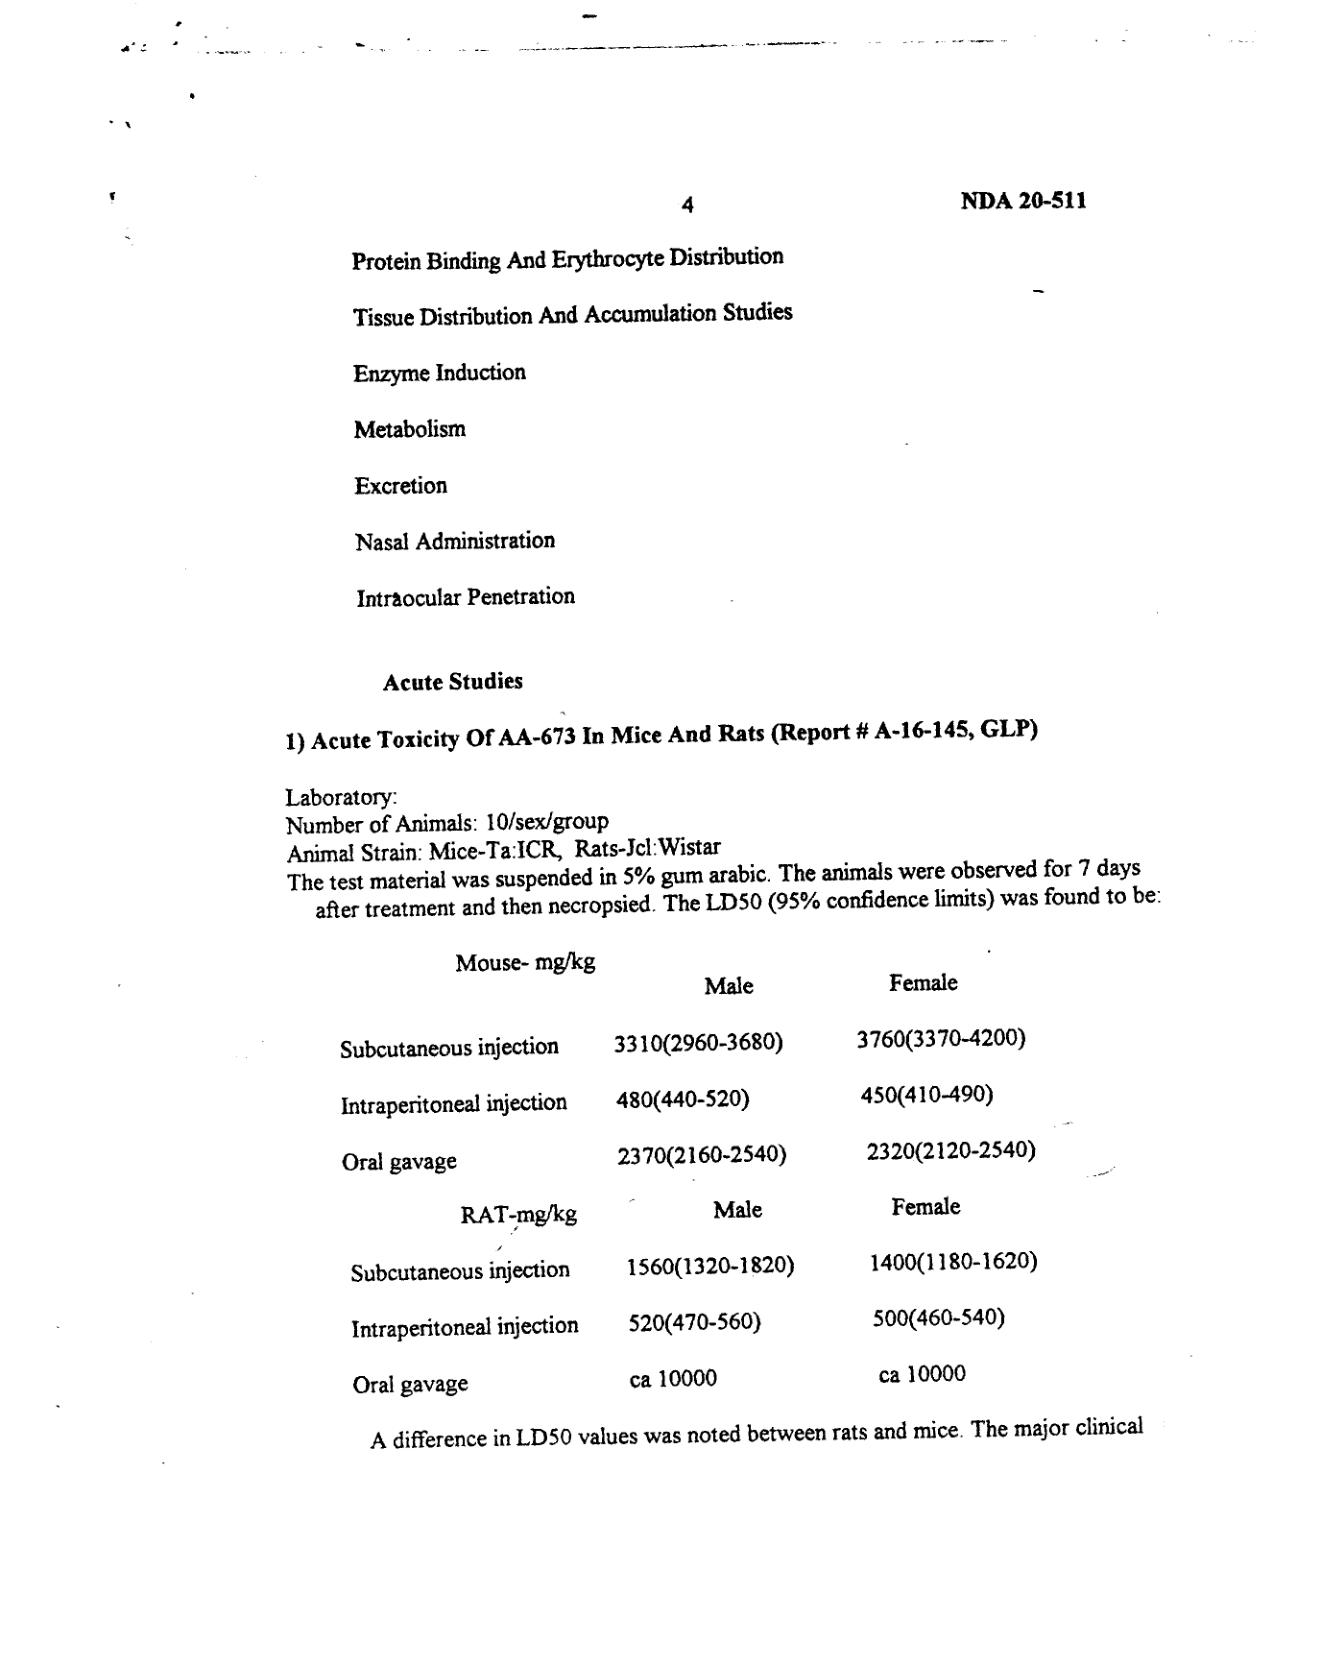nolines: (338, 947, 1037, 1402)
